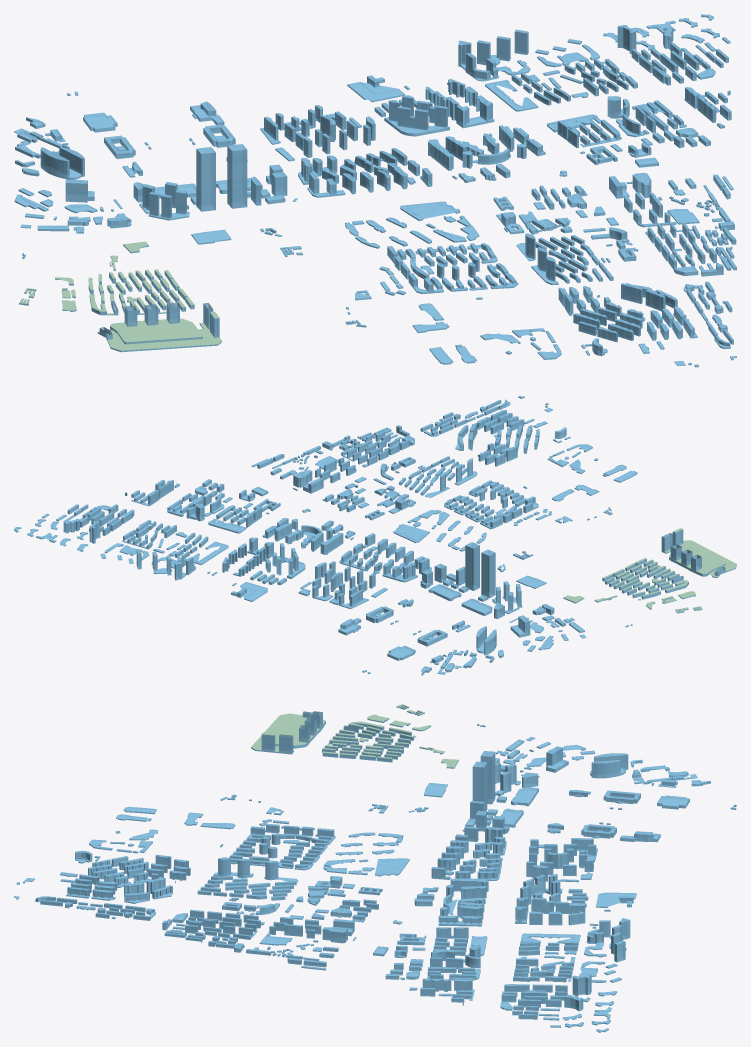
The picture shows the model from 3 angles, top to bottom: view 1: azimuth 30°, elevation 25°; view 2: azimuth 150°, elevation 25°; view 3: azimuth 270°, elevation 25°; orthographic projection. The views are drawn at different scales.
Parts seen in each view (by area): view 1: Mesh552 Model, Mesh551 Model, Mesh88 Model, Mesh442 Model, Mesh445 Model, Mesh528 Model, Mesh546 Model, Mesh220 Model, Mesh330 Model, Mesh222 Model, Mesh489 Model, Mesh62 Model (+6 smaller); view 2: Mesh552 Model, Mesh551 Model, Mesh442 Model, Mesh445 Model, Mesh67 Model, Mesh528 Model; view 3: Mesh552 Model, Mesh551 Model, Mesh528 Model, Mesh442 Model, Mesh88 Model, Mesh220 Model, Mesh182 Model, Mesh445 Model.
Boxes of the visible parts, box(x1,y1,x2,y2) form: Mesh552 Model: box(110, 302, 202, 344); Mesh551 Model: box(97, 302, 221, 352); Mesh88 Model: box(384, 100, 449, 136); Mesh442 Model: box(227, 144, 247, 208); Mesh445 Model: box(196, 147, 215, 211); Mesh528 Model: box(40, 147, 84, 179); Mesh546 Model: box(148, 190, 189, 220); Mesh220 Model: box(465, 53, 530, 81); Mesh330 Model: box(400, 201, 460, 221); Mesh222 Model: box(477, 36, 510, 65); Mesh489 Model: box(347, 82, 404, 102); Mesh62 Model: box(354, 148, 407, 172); Mesh552 Model: box(669, 544, 725, 576); Mesh551 Model: box(661, 528, 736, 577); Mesh442 Model: box(465, 542, 479, 590); Mesh445 Model: box(481, 549, 495, 598); Mesh67 Model: box(382, 562, 417, 582); Mesh528 Model: box(476, 626, 496, 655); Mesh552 Model: box(274, 711, 325, 748); Mesh551 Model: box(251, 711, 318, 754); Mesh528 Model: box(590, 753, 628, 778); Mesh442 Model: box(472, 761, 487, 811); Mesh88 Model: box(520, 873, 562, 904); Mesh220 Model: box(584, 920, 610, 957); Mesh182 Model: box(213, 857, 253, 878); Mesh445 Model: box(480, 751, 495, 804).
Bounding box in the file's own units: 118322 × 8000 × 110352.
